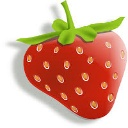strawberry: (22, 21, 128, 119)
